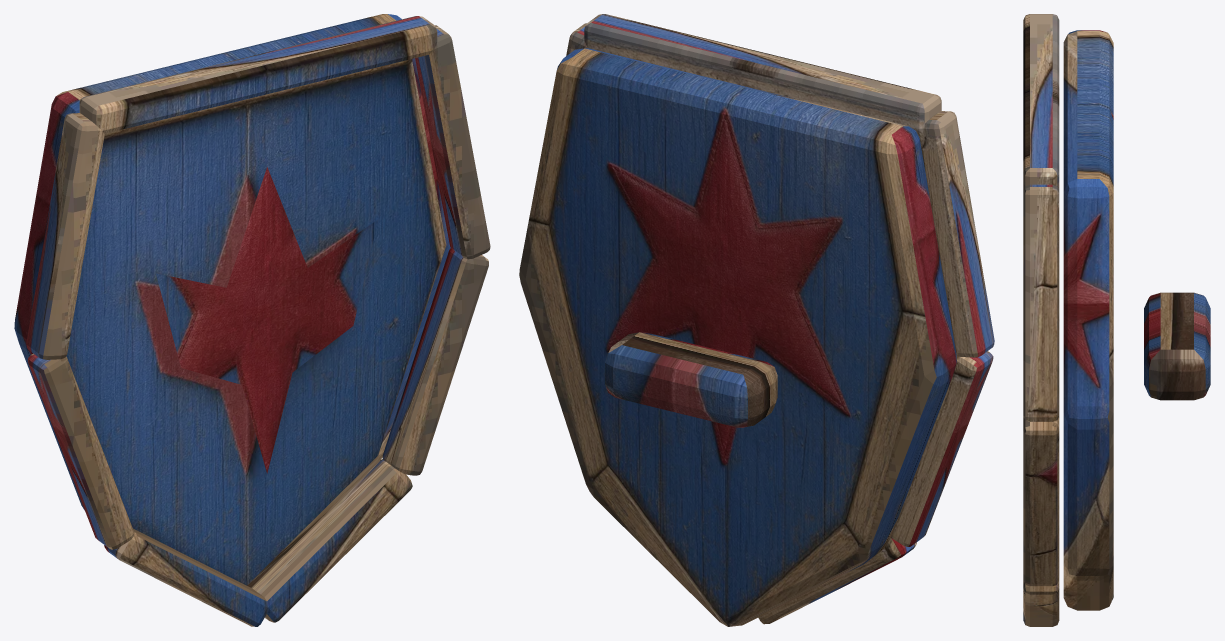
File: evil_shield.glb
3 views of the same model, side by side, from view 1: azimuth 30°, elevation 25°; view 2: azimuth 150°, elevation 25°; view 3: azimuth 270°, elevation 25° (orthographic). The views are drawn at different scales.
Parts seen in each view (by area): view 1: Shield blue field, Crimson shield emblem, Shield gold rim, Shield gold rim.006, Shield gold rim.002, Shield gold rim.001, Shield gold rim.003, Shield gold rim.005, Shield gold rim.004; view 2: Shield blue field, Shield gold rim, Shield hand grip, Shield gold rim.006, Shield gold rim.005, Shield gold rim.004; view 3: Shield blue field, Shield gold rim.001, Shield hand grip, Shield gold rim, Shield gold rim.002, Shield gold rim.003.
Boxes of the visible parts, left/top/right/bottom form: Shield blue field: left=14, top=14, right=450, bottom=587; Crimson shield emblem: left=156, top=167, right=378, bottom=473; Shield gold rim: left=79, top=16, right=437, bottom=133; Shield gold rim.006: left=26, top=113, right=104, bottom=359; Shield gold rim.002: left=382, top=248, right=488, bottom=475; Shield gold rim.001: left=415, top=25, right=490, bottom=259; Shield gold rim.003: left=251, top=459, right=412, bottom=622; Shield gold rim.005: left=28, top=353, right=134, bottom=549; Shield gold rim.004: left=104, top=528, right=267, bottom=626; Shield blue field: left=519, top=48, right=956, bottom=626; Shield gold rim: left=584, top=14, right=941, bottom=131; Shield hand grip: left=605, top=332, right=777, bottom=427; Shield gold rim.006: left=916, top=111, right=994, bottom=357; Shield gold rim.005: left=891, top=351, right=993, bottom=546; Shield gold rim.004: left=758, top=538, right=916, bottom=624; Shield blue field: left=1063, top=30, right=1113, bottom=610; Shield gold rim.001: left=1023, top=184, right=1059, bottom=421; Shield hand grip: left=1144, top=292, right=1210, bottom=400; Shield gold rim: left=1023, top=14, right=1059, bottom=188; Shield gold rim.002: left=1023, top=417, right=1059, bottom=586; Shield gold rim.003: left=1023, top=580, right=1059, bottom=626.
Size of the model in its own units: 0.8897 by 1.05 by 0.3375.
4 materials, 4 textured.
